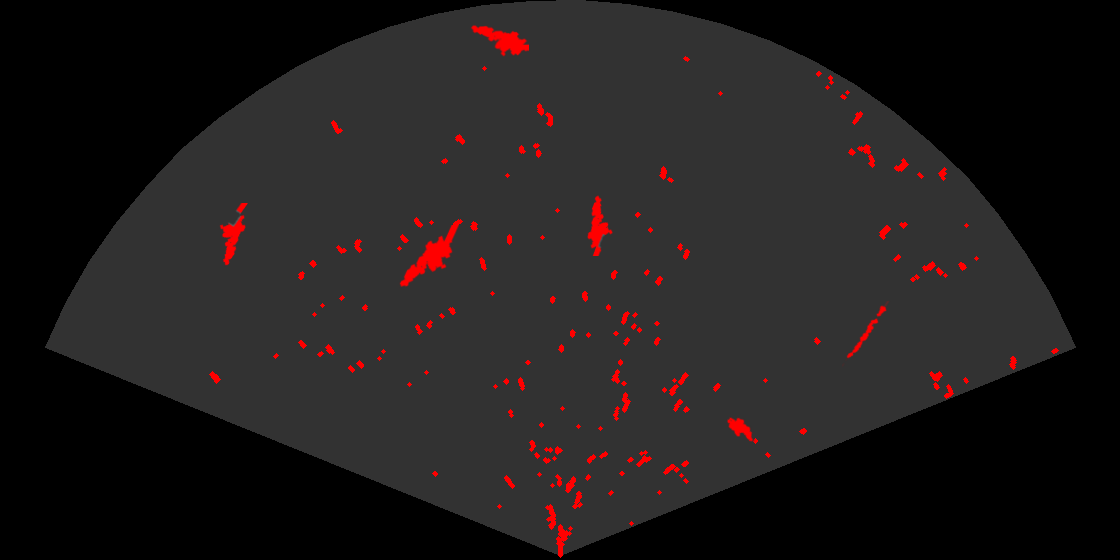AUV: (726, 416, 755, 443)
chain: (842, 301, 891, 368)
frogman: (398, 225, 461, 289), (470, 24, 529, 58), (218, 203, 249, 267), (586, 194, 614, 256)
